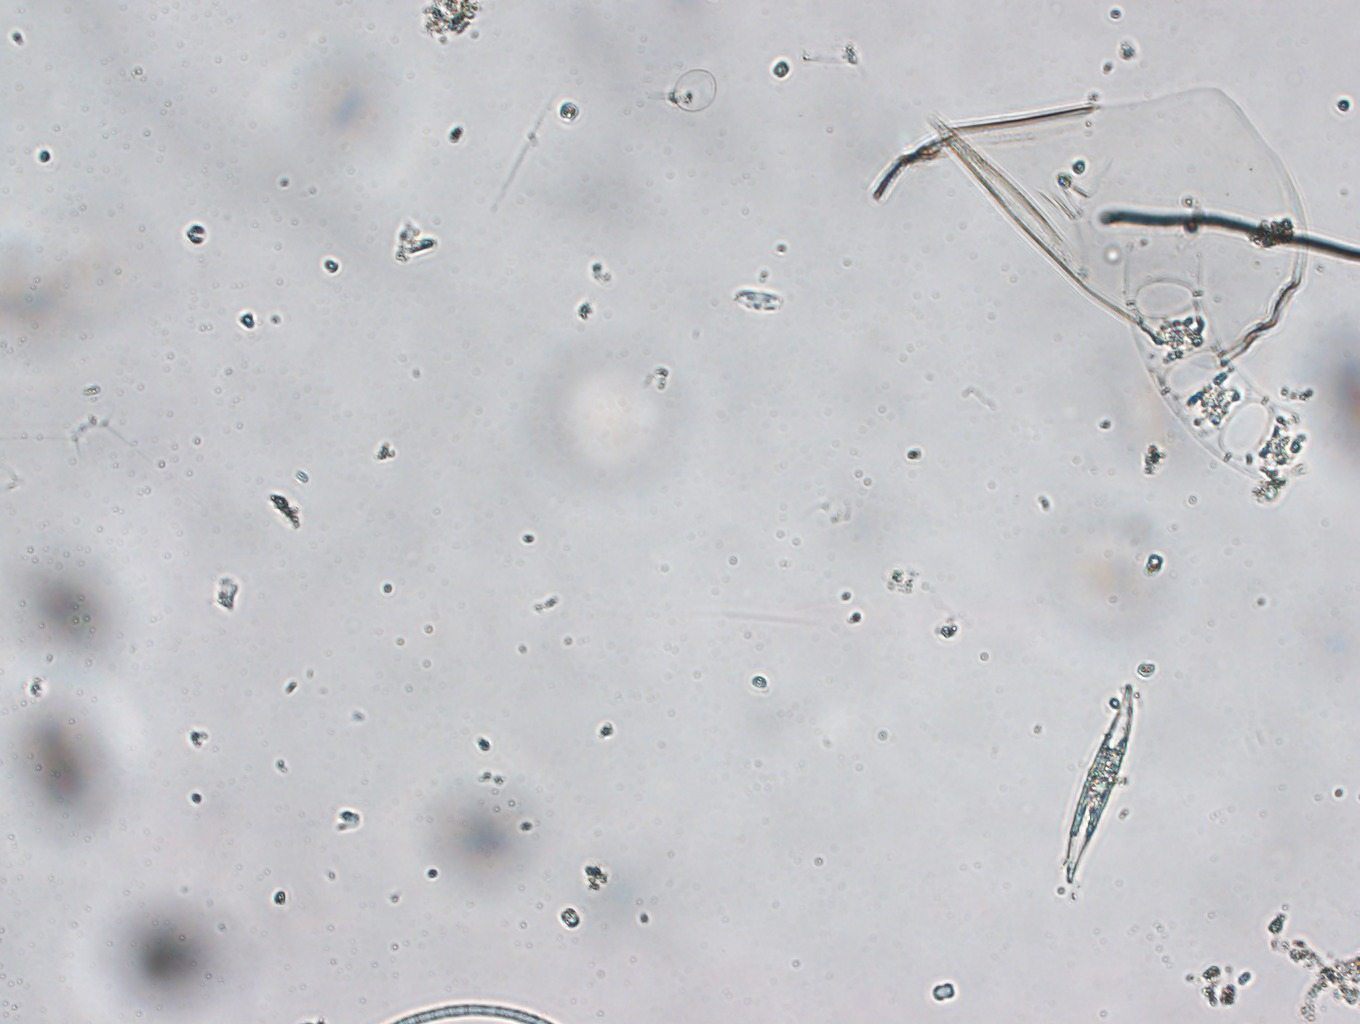eucampia: (1123, 248, 1303, 479)
pleurosigma pelagicum: (1064, 681, 1135, 885)
